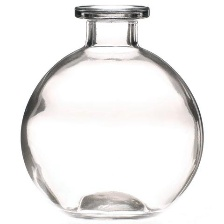bottle: (17, 0, 211, 221)
